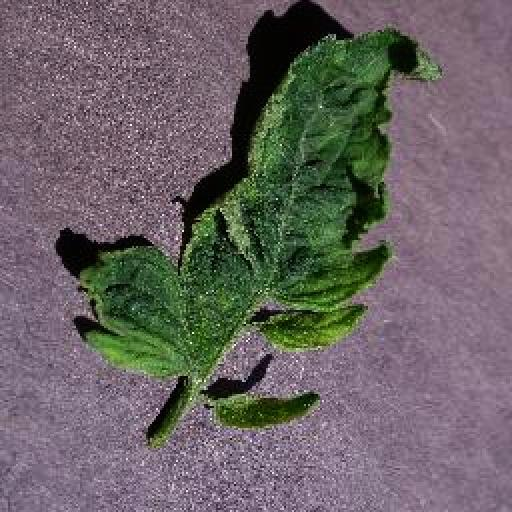Mosaic Virus: (76, 26, 446, 430)
